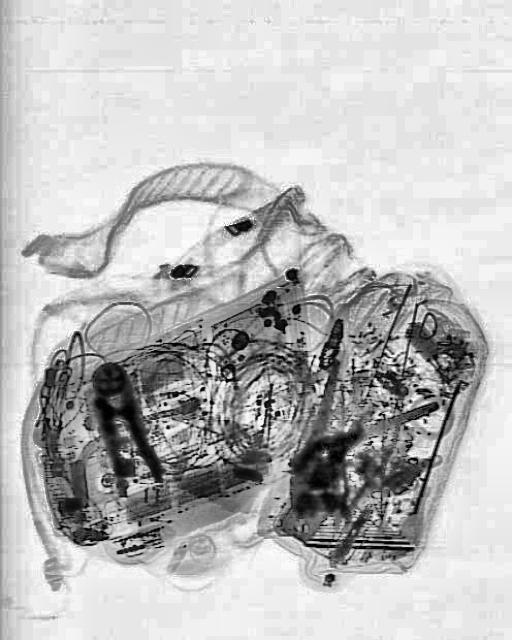Pliers: (79, 354, 163, 496)
